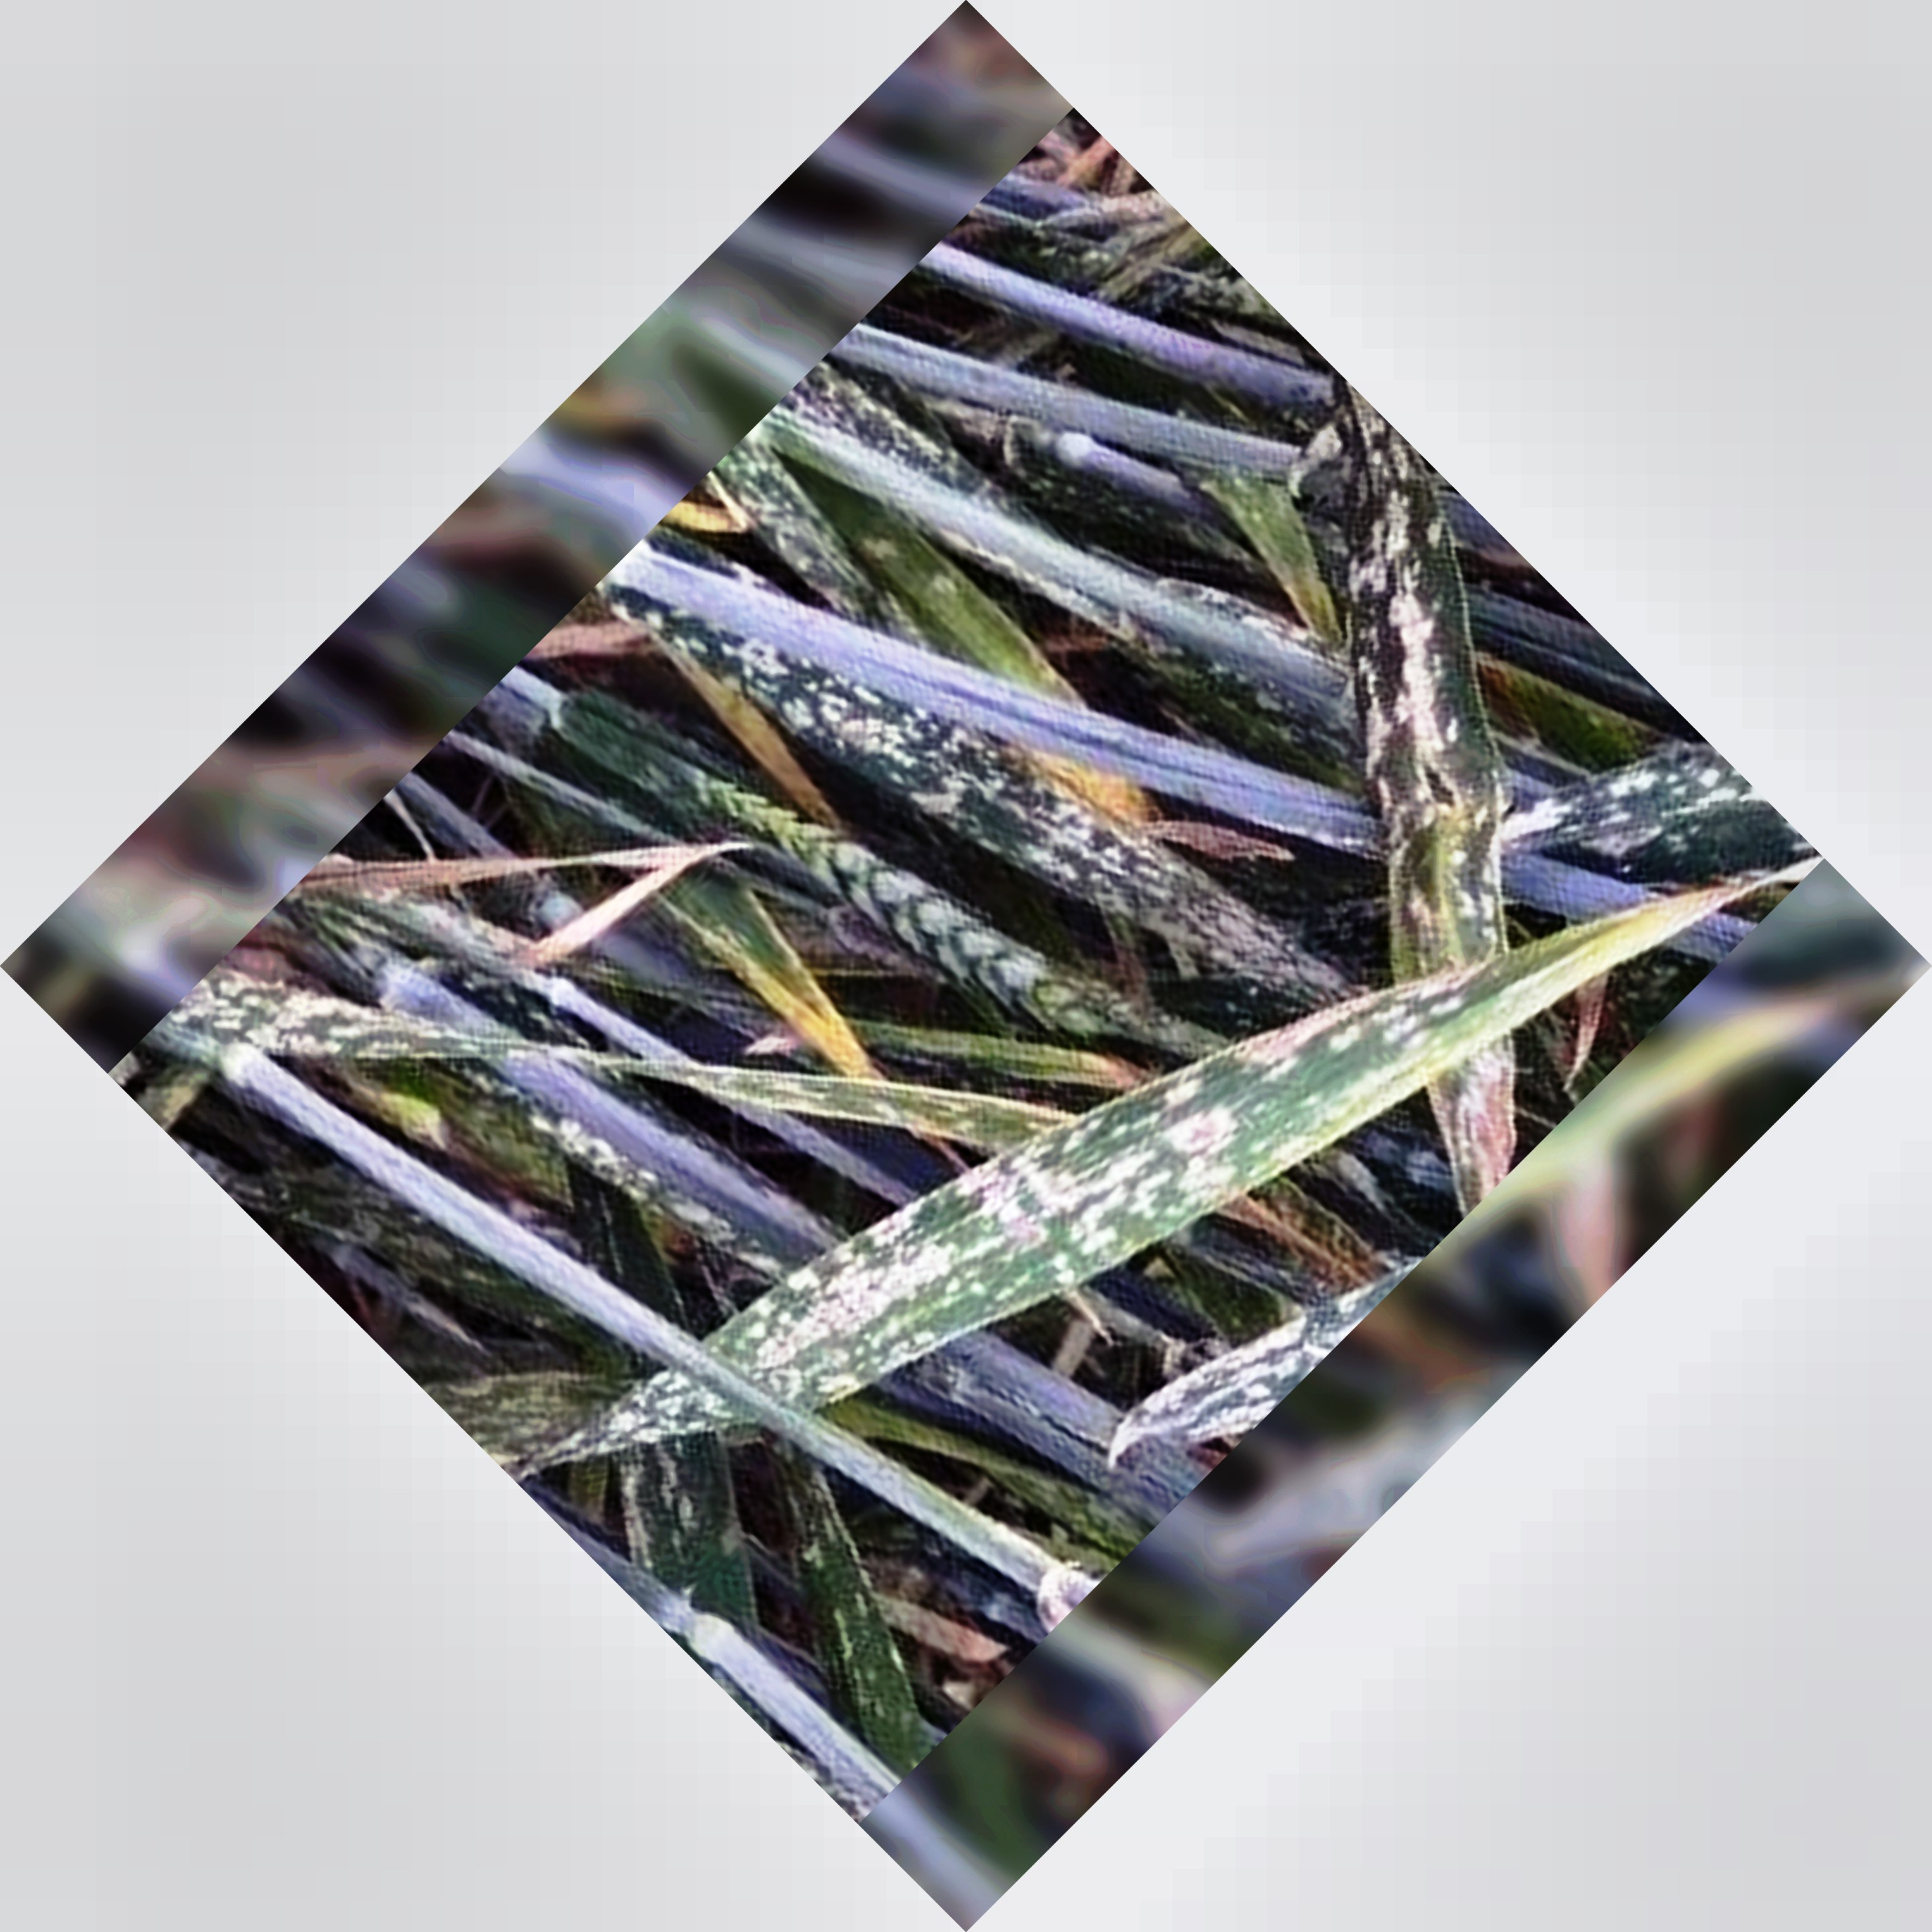Powdery Mildew: (752, 975, 1414, 1385), (1270, 487, 1713, 936)
